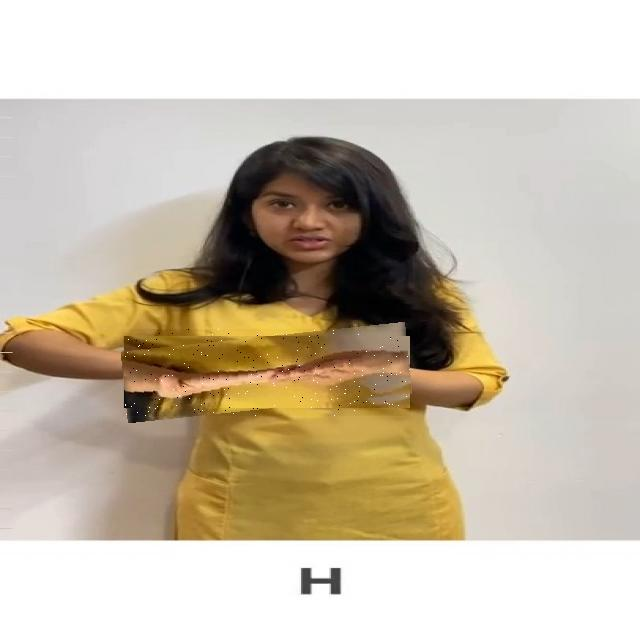H: (123, 329, 411, 416)
